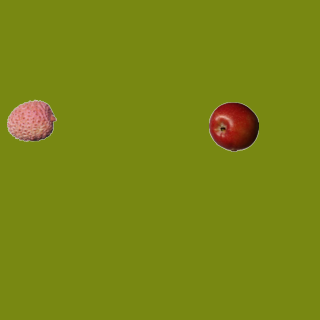Apple Braeburn: (208, 101, 258, 151)
Lychee: (6, 95, 56, 145)
